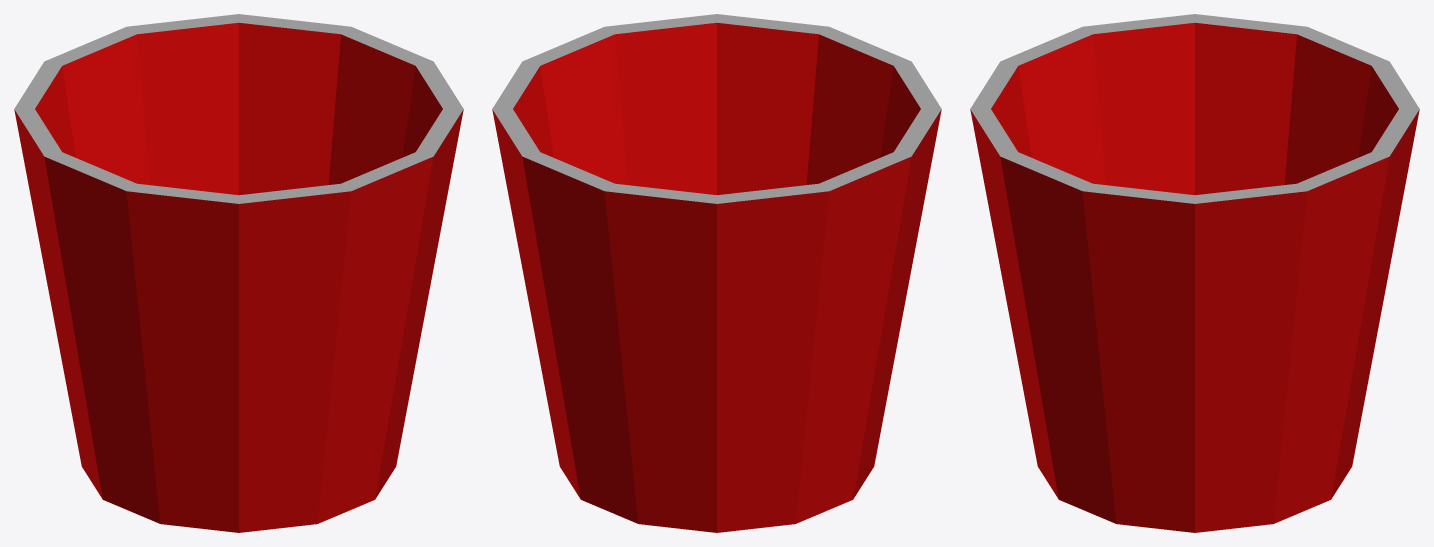
Rendered from Balde.fbx.
3 views of the same model, side by side, from view 1: azimuth 30°, elevation 25°; view 2: azimuth 150°, elevation 25°; view 3: azimuth 270°, elevation 25° (orthographic).
Visible parts, largest first — view 1: TACHO; view 2: TACHO; view 3: TACHO.
Part boxes in pixels (<box>): TACHO: <box>14,14,463,532</box>; TACHO: <box>492,14,941,532</box>; TACHO: <box>970,14,1419,532</box>.
Size of the model in its own units: 14.41 by 12.64 by 14.41.
